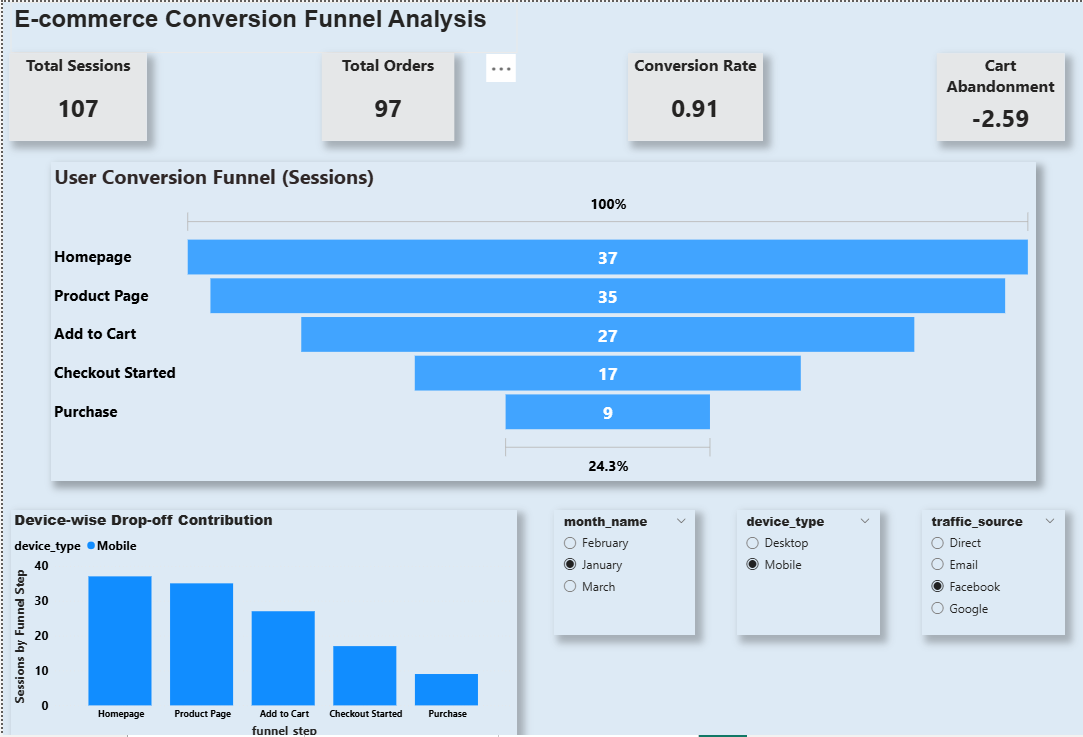

This screenshot's page, from the dashboard's own definition file:
{"tool":"powerbi","page":{"name":"Conversion Funnel","canvas":[1440,2560],"ordinal":0},"visuals":[{"type":"textbox","box":[9.6,0,675.1,68.6],"z":0},{"type":"card","title":"Total Sessions","fields":{"Values":["_Measures.Sessions"]},"box":[9,68.7,183.6,116.4],"z":1000},{"type":"card","title":"Total Orders","fields":{"Values":["_Measures.Total Orders"]},"box":[424.4,68.3,177,117.1],"z":2000},{"type":"card","title":"Conversion Rate","fields":{"Values":["_Measures.Conversion Rate %"]},"box":[833.3,68.3,179.8,117.1],"z":3000},{"type":"card","title":"Cart Abandonment","fields":{"Values":["_Measures.Cart Abandonment Rate %"]},"box":[1245,68.3,170,116.7],"z":4000},{"type":"funnel","title":"User Conversion Funnel (Sessions)","fields":{"Category":["WebEvents.funnel_step"],"Y":["_Measures.Sessions by Funnel Step"]},"box":[63.3,213.3,1313.3,425],"z":5000},{"type":"slicer","fields":{"Values":["Devices.device_type"]},"box":[978.3,676.7,190,168.3],"z":6000},{"type":"slicer","fields":{"Values":["TrafficSource.traffic_source"]},"box":[1225,676.7,190,168.3],"z":7000},{"type":"slicer","fields":{"Values":["Date.month_name"]},"box":[735,676.7,188.3,168.3],"z":8000},{"type":"clusteredColumnChart","title":"Device-wise Drop-off Contribution","fields":{"Category":["WebEvents.funnel_step"],"Y":["_Measures.Sessions by Funnel Step"],"Series":["Devices.device_type"]},"box":[10,676.7,675,310],"z":9000}]}

Visuals, with their boxes on the page's 1440x2560 design canvas (x1, y1, x2, y2). These are canvas units, not pixel positions in the 1083x737 screenshot, which may show the page scaled, cropped or inside an application window:
textbox: (10,0,685,69)
"Total Sessions" card: (9,69,193,185)
"Total Orders" card: (424,68,601,185)
"Conversion Rate" card: (833,68,1013,185)
"Cart Abandonment" card: (1245,68,1415,185)
"User Conversion Funnel (Sessions)" funnel: (63,213,1377,638)
slicer - Devices.device_type: (978,677,1168,845)
slicer - TrafficSource.traffic_source: (1225,677,1415,845)
slicer - Date.month_name: (735,677,923,845)
"Device-wise Drop-off Contribution" clusteredColumnChart: (10,677,685,987)
